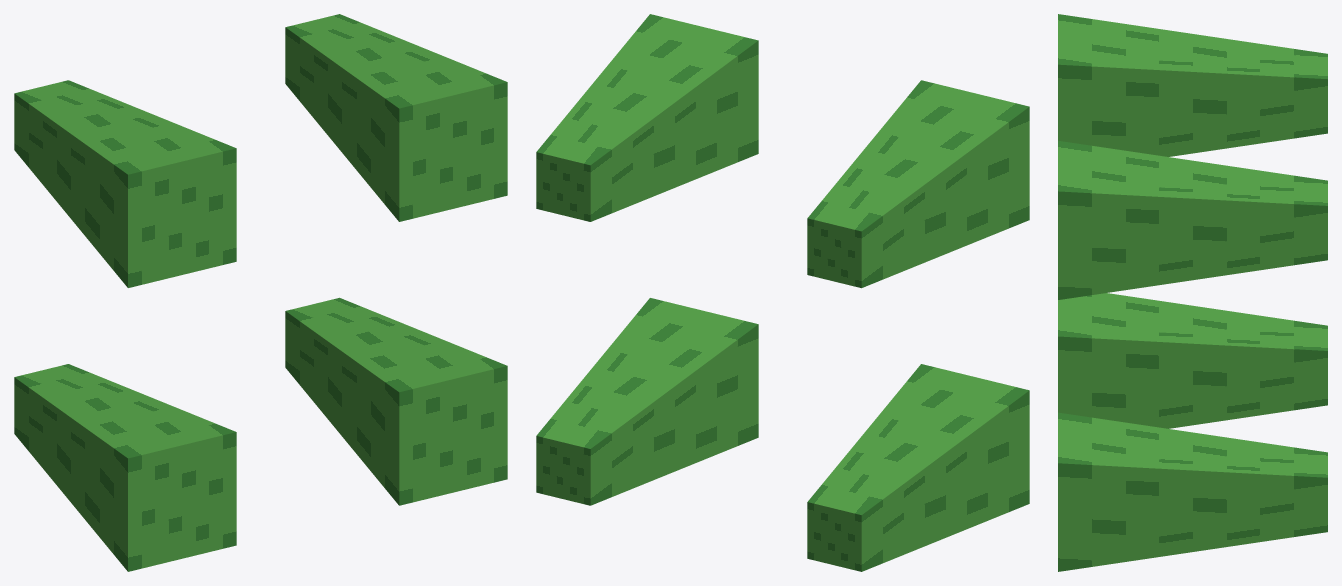
Rendered from carrot2.glb.
The picture shows the model from 3 angles, left to right: view 1: azimuth 30°, elevation 25°; view 2: azimuth 150°, elevation 25°; view 3: azimuth 270°, elevation 25°; orthographic projection. The views are drawn at different scales.
Visible parts, largest first — view 1: carrot2; view 2: carrot2; view 3: carrot2.
Boxes of the visible parts, left/top/right/bottom form: carrot2: left=14, top=14, right=507, bottom=571; carrot2: left=536, top=14, right=1029, bottom=571; carrot2: left=1058, top=14, right=1327, bottom=571.
Size of the model in its own units: 0.56 by 0.56 by 0.36.
Materials: 1 (1 with a texture image).
